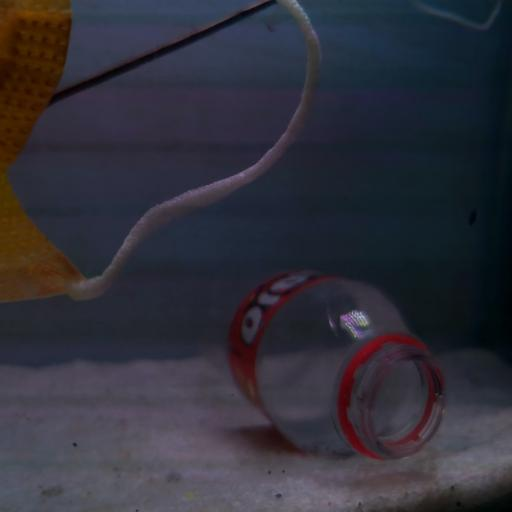mask: (0, 0, 326, 302)
plastic_bottle: (189, 267, 449, 462)
